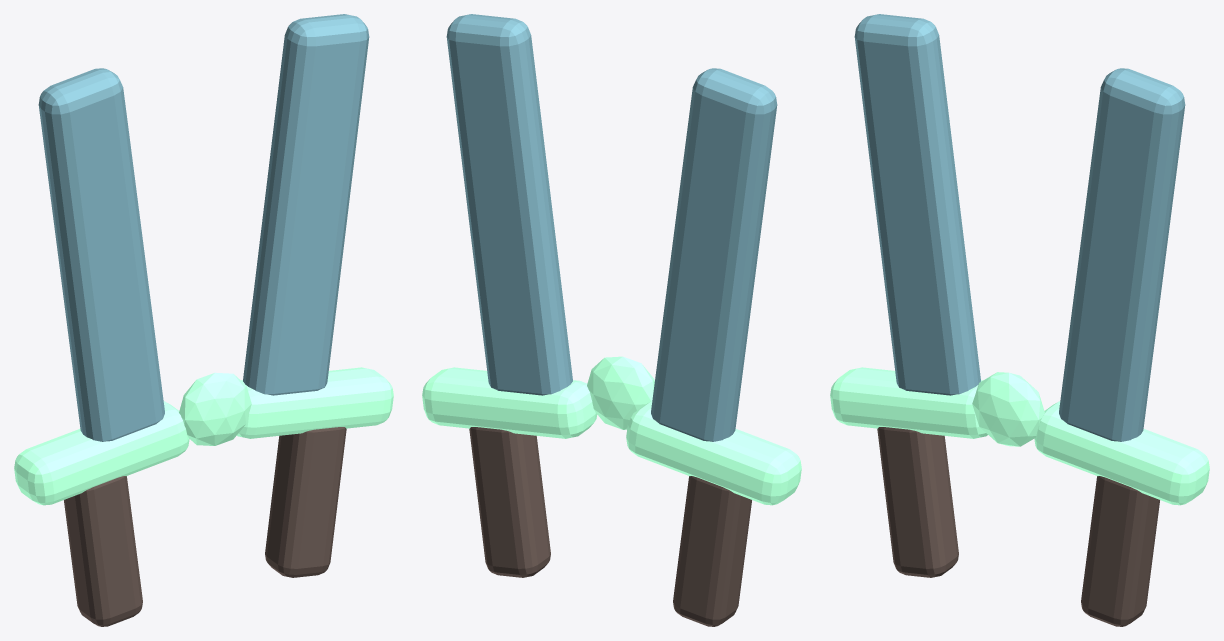
Rendered from shade-twins.glb.
3 views of the same model, side by side, from view 1: azimuth 30°, elevation 25°; view 2: azimuth 150°, elevation 25°; view 3: azimuth 330°, elevation 25° (orthographic).
Visible parts, largest first — view 1: DaggerBlade_1, DaggerBlade_-1, DaggerGrip_1, DaggerGrip_-1, DaggerGuard_-1, DaggerGuard_1, DaggerCenterGem; view 2: DaggerBlade_1, DaggerBlade_-1, DaggerGrip_1, DaggerGrip_-1, DaggerGuard_-1, DaggerGuard_1, DaggerCenterGem; view 3: DaggerBlade_-1, DaggerBlade_1, DaggerGrip_-1, DaggerGrip_1, DaggerGuard_1, DaggerGuard_-1, DaggerCenterGem.
Part boxes in pixels (<box>): DaggerBlade_1: <box>243,14,369,395</box>; DaggerBlade_-1: <box>38,68,164,441</box>; DaggerGrip_1: <box>265,427,346,577</box>; DaggerGrip_-1: <box>64,476,142,626</box>; DaggerGuard_-1: <box>14,401,189,505</box>; DaggerGuard_1: <box>237,367,393,438</box>; DaggerCenterGem: <box>179,372,251,445</box>; DaggerBlade_1: <box>446,14,572,395</box>; DaggerBlade_-1: <box>651,68,777,441</box>; DaggerGrip_1: <box>469,427,550,577</box>; DaggerGrip_-1: <box>673,476,751,626</box>; DaggerGuard_-1: <box>626,401,801,505</box>; DaggerGuard_1: <box>422,367,597,438</box>; DaggerCenterGem: <box>587,356,654,429</box>; DaggerBlade_-1: <box>854,14,980,395</box>; DaggerBlade_1: <box>1059,68,1185,441</box>; DaggerGrip_-1: <box>877,427,958,577</box>; DaggerGrip_1: <box>1081,476,1159,626</box>; DaggerGuard_1: <box>1034,401,1209,505</box>; DaggerGuard_-1: <box>830,367,987,438</box>; DaggerCenterGem: <box>972,372,1044,446</box>.
Bounding box in the file's own units: 1.14 × 1.65 × 0.2.
